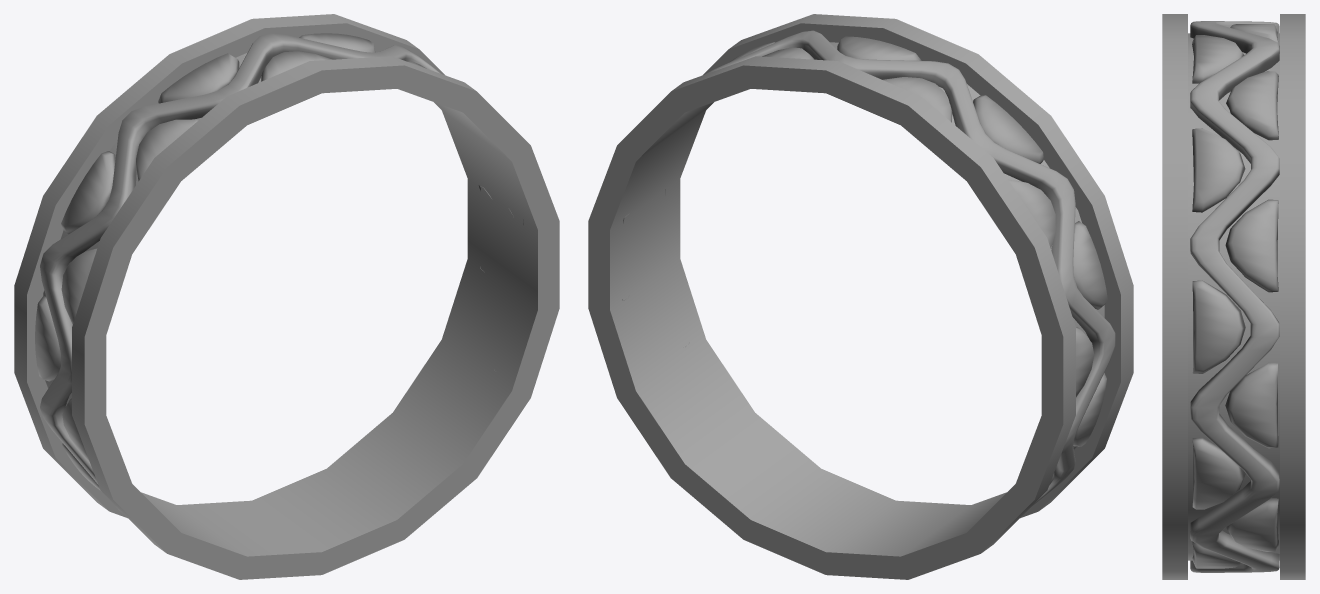
The model's file is RhodiumObject.DAE.
3 renders of one model, left to right at view 1: azimuth 30°, elevation 25°; view 2: azimuth 150°, elevation 25°; view 3: azimuth 270°, elevation 25°, orthographic. The views are drawn at different scales.
Parts seen in each view (by area): view 1: Tube001; view 2: Tube001; view 3: Tube001.
Boxes of the visible parts, left/top/right/bottom form: Tube001: left=14, top=14, right=559, bottom=579; Tube001: left=588, top=14, right=1133, bottom=579; Tube001: left=1162, top=14, right=1305, bottom=579.
Size of the model in its own units: 9.31 by 2.39 by 9.45.
1 material, 1 textured.
